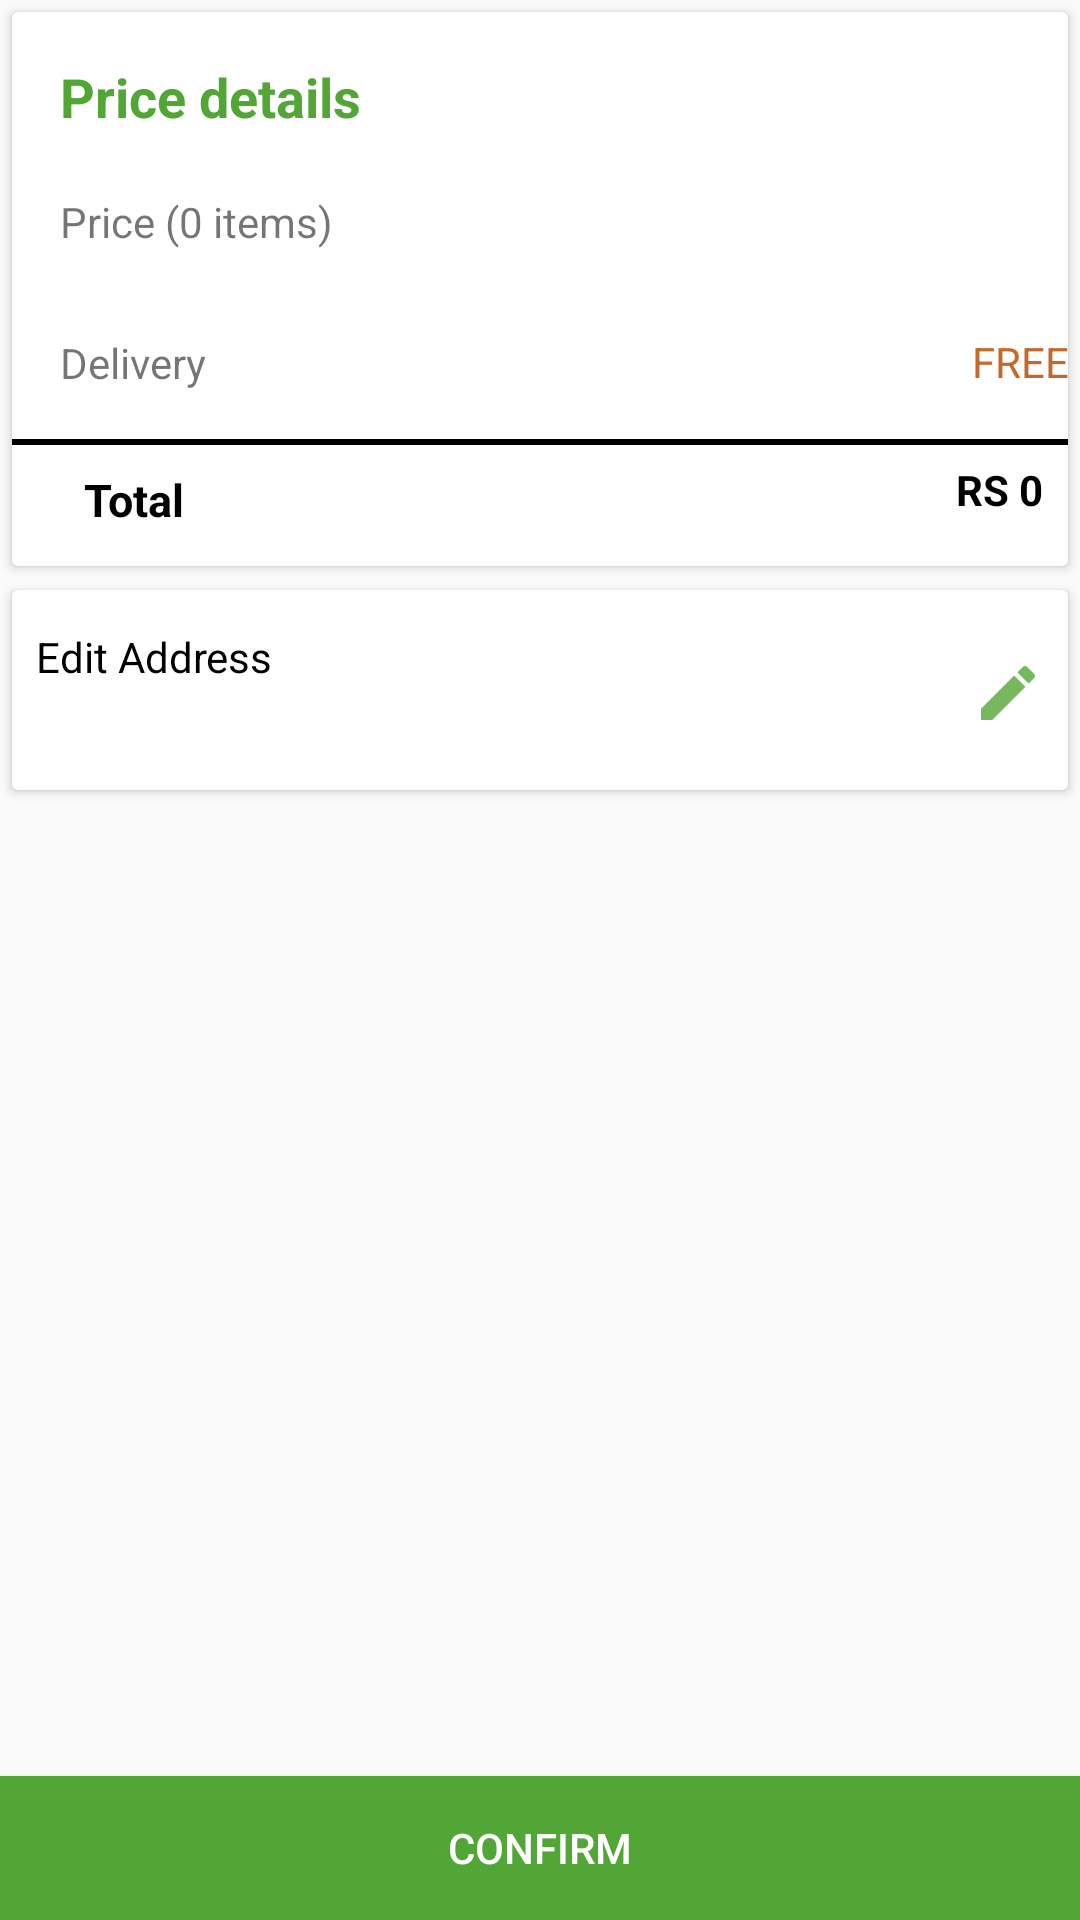

Named icons in this screenshot (1080w x 1920h) and their centers, (x=x, y=y):
edit: (x=1008, y=693)
